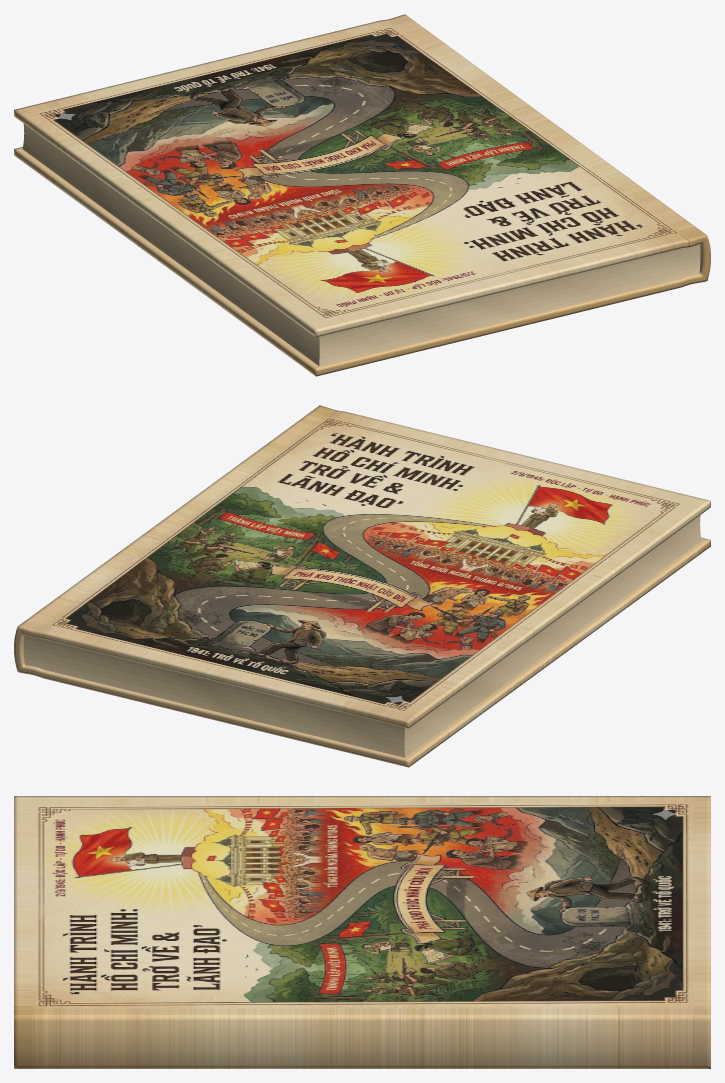
File: Notebookhcm01.glb
The picture shows the model from 3 angles, top to bottom: view 1: azimuth 30°, elevation 25°; view 2: azimuth 150°, elevation 25°; view 3: azimuth 270°, elevation 25°; orthographic projection. The views are drawn at different scales.
Visible parts, largest first — view 1: NoteBook; view 2: NoteBook; view 3: NoteBook.
Part boxes in pixels (box(x1,y1,x2,y2)): NoteBook: box(14, 14, 710, 376); NoteBook: box(14, 405, 710, 767); NoteBook: box(14, 796, 710, 1068).
Size of the model in its own units: 0.1811 by 0.02 by 0.24.
Materials: 1 (1 with a texture image).
